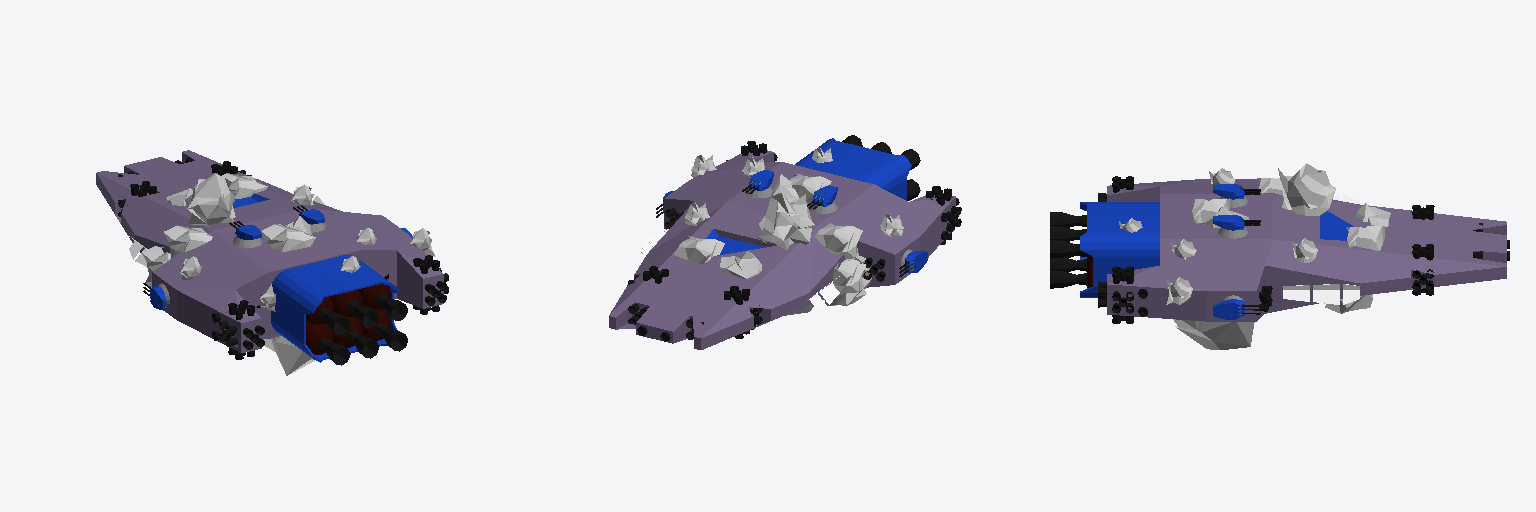
Rendered from Cruiserwreck.obj.
3 renders of one model, left to right at view 1: azimuth 30°, elevation 25°; view 2: azimuth 150°, elevation 25°; view 3: azimuth 270°, elevation 25°, orthographic.
Visible parts, largest first — view 1: Cube, Cube.011, Cube.001, Cube.003, Cube.008, Cube.005; view 2: Cube, Cube.011, Cube.009, Cube.008, Cube.005, Cube.010, Cube.001; view 3: Cube, Cube.011, Cube.003, Cube.005, Cube.001, Cube.010.
Boxes of the visible parts, <box> form: Cube: <box>96,150,448,365</box>; Cube.011: <box>185,173,235,226</box>; Cube.001: <box>261,224,315,251</box>; Cube.003: <box>263,336,314,375</box>; Cube.008: <box>164,225,213,258</box>; Cube.005: <box>222,173,267,198</box>; Cube: <box>609,135,961,349</box>; Cube.011: <box>758,193,814,249</box>; Cube.009: <box>825,260,866,305</box>; Cube.008: <box>815,223,862,260</box>; Cube.005: <box>673,236,724,263</box>; Cube.010: <box>720,251,761,279</box>; Cube.001: <box>789,174,831,201</box>; Cube: <box>1050,176,1509,323</box>; Cube.011: <box>1278,163,1335,215</box>; Cube.003: <box>1173,319,1254,349</box>; Cube.005: <box>1346,226,1384,250</box>; Cube.001: <box>1191,198,1229,223</box>; Cube.010: <box>1354,202,1390,226</box>.
Size of the model in its own units: 87.52 by 52.77 by 138.